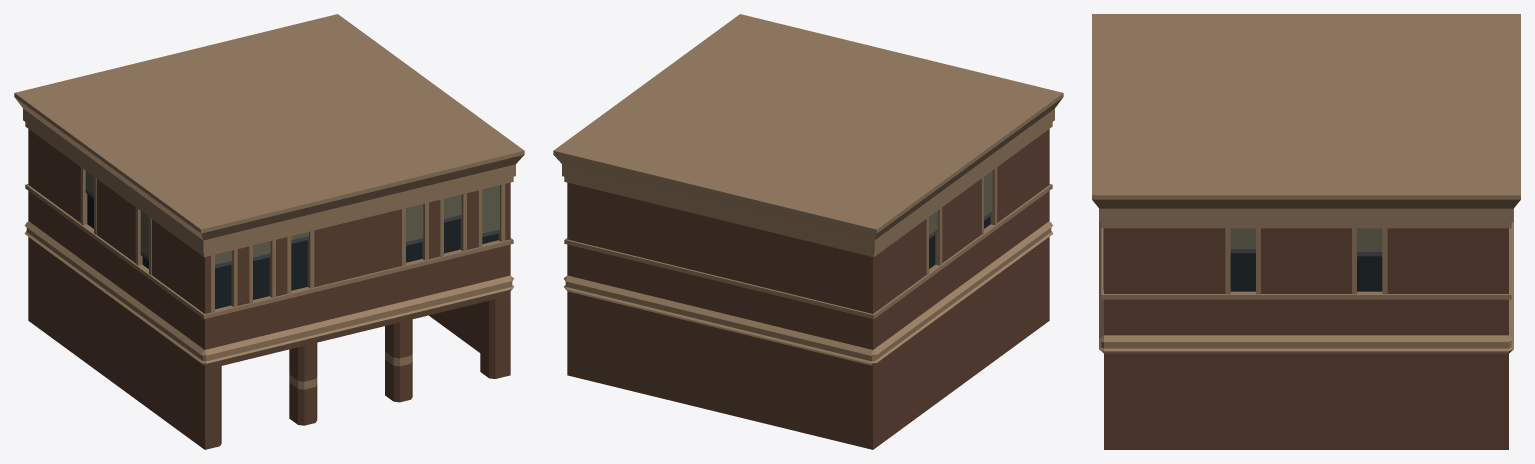
File: Building2.fbx
3 views of the same model, side by side, from view 1: azimuth 30°, elevation 25°; view 2: azimuth 150°, elevation 25°; view 3: azimuth 270°, elevation 25° (orthographic). The views are drawn at different scales.
Visible parts, largest first — view 1: Cube.010; view 2: Cube.010; view 3: Cube.010.
Part boxes in pixels (x1,y1,x2,y2): Cube.010: (14,14,524,449); Cube.010: (553,14,1063,449); Cube.010: (1092,14,1520,449).
Size of the model in its own units: 1694 by 1132 by 1694.
